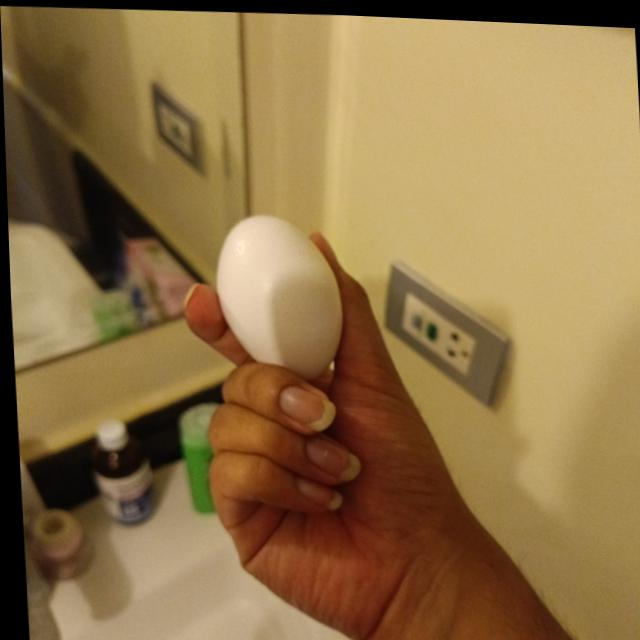egg: (215, 212, 340, 374)
